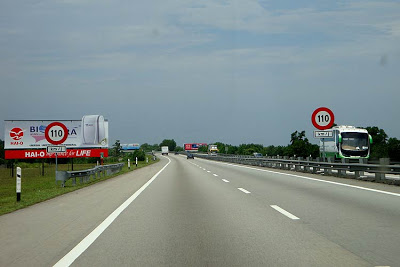Speed_limit_110km: (311, 107, 335, 130), (45, 122, 68, 145)
